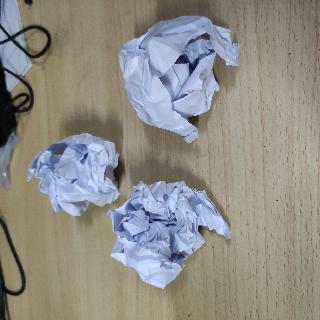8/可回收垃圾/纸: (117, 15, 241, 144), (106, 178, 233, 291), (25, 132, 121, 218)
